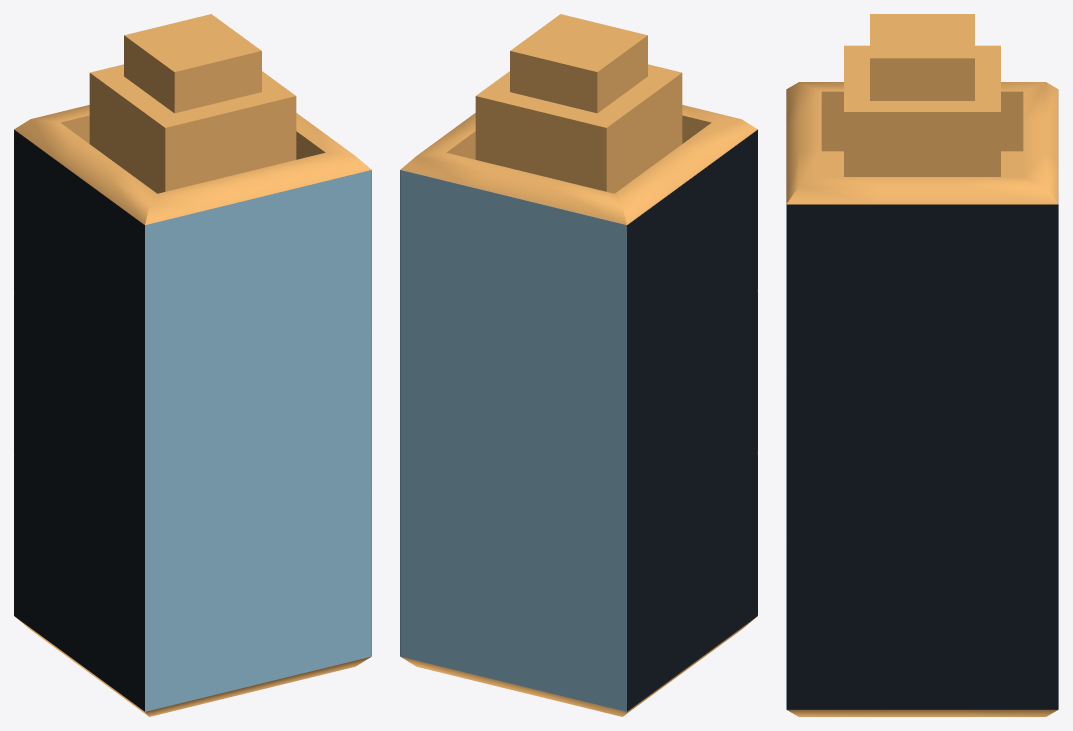
Rendered from building2.glb.
3 views of the same model, side by side, from view 1: azimuth 30°, elevation 25°; view 2: azimuth 150°, elevation 25°; view 3: azimuth 270°, elevation 25° (orthographic). The views are drawn at different scales.
Parts seen in each view (by area): view 1: building2; view 2: building2; view 3: building2.
Part boxes in pixels (box(x1,y1,x2,y2)): building2: box(14, 14, 371, 716); building2: box(400, 14, 757, 716); building2: box(786, 14, 1058, 716).
Bounding box in the file's own units: 0.1511 × 0.3853 × 0.1511.
1 material, 1 textured.
